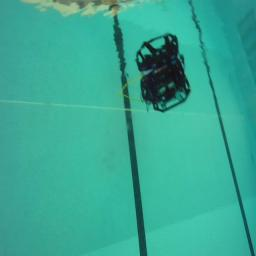Side: (141, 64, 190, 112)
